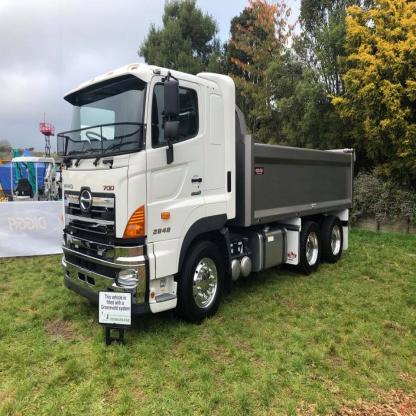dump_truck: (56, 58, 365, 326)
